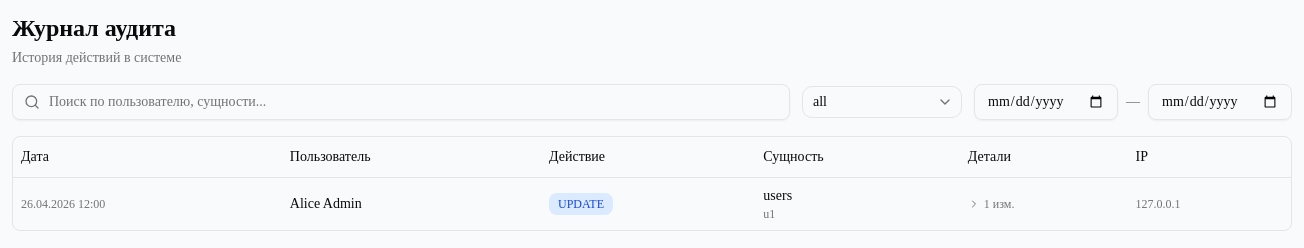
Test case: AuditLogPage — before/after diff rendering › shows a changed-field count and expands to a field-by-field diff for the new {before, after} shape
Expected: the text "1 изм." is shown, [984, 196, 1014, 212]
Expected: the text "isAdmin:" is not shown
Click the button "1 изм.". click: click(991, 204)
box: [968, 196, 1014, 212]
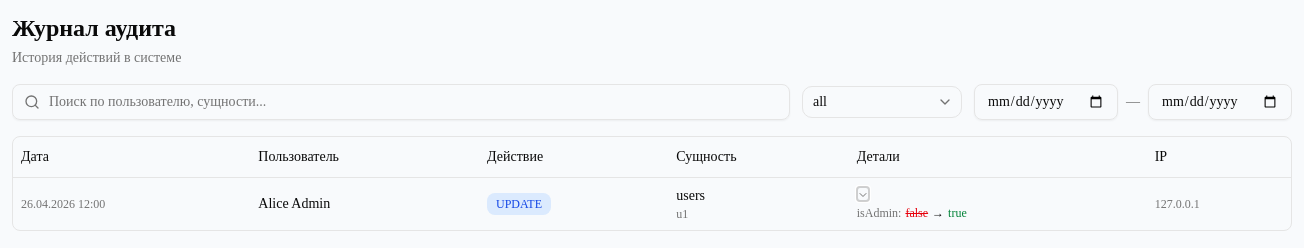
Expected: the text "isAdmin:" is shown, [857, 204, 902, 220]
Expected: the text "false" is shown, [905, 204, 928, 220]
Expected: the text "true" is shown, [948, 204, 967, 220]
